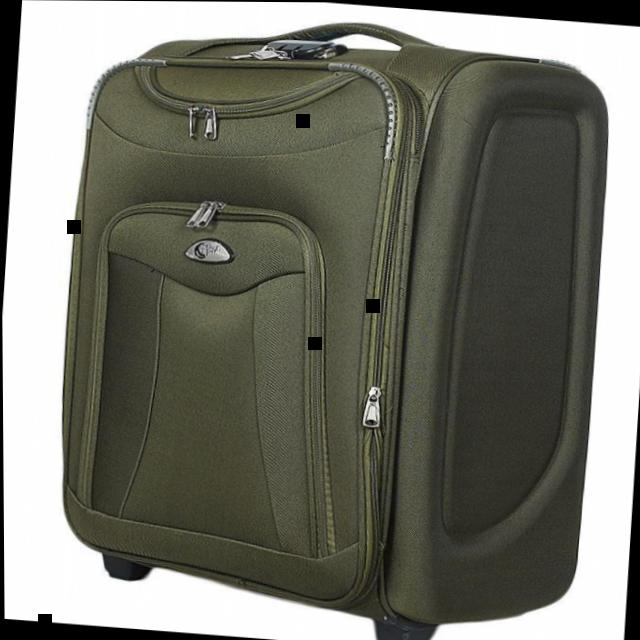luggage: (33, 0, 627, 640)
